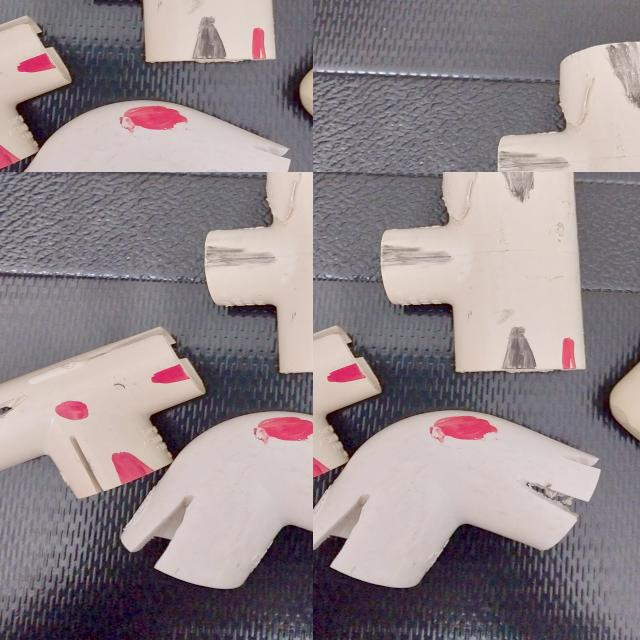Defective: (191, 422, 313, 506), (317, 500, 385, 572), (517, 473, 591, 523), (195, 172, 313, 202), (490, 172, 548, 203), (505, 325, 536, 372), (383, 249, 452, 268), (434, 418, 491, 440), (343, 364, 374, 387), (327, 367, 364, 385), (562, 336, 576, 371), (313, 453, 326, 479)
L Joint: (86, 411, 313, 640), (313, 412, 597, 588), (376, 172, 577, 367), (51, 172, 313, 295)
T Joint: (313, 324, 383, 502)
